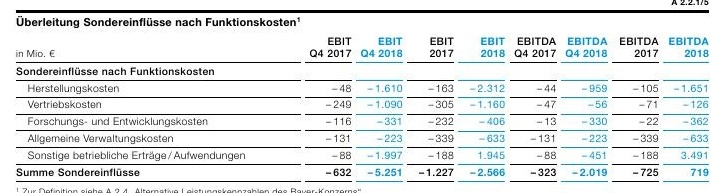table: (0, 0, 726, 193)
